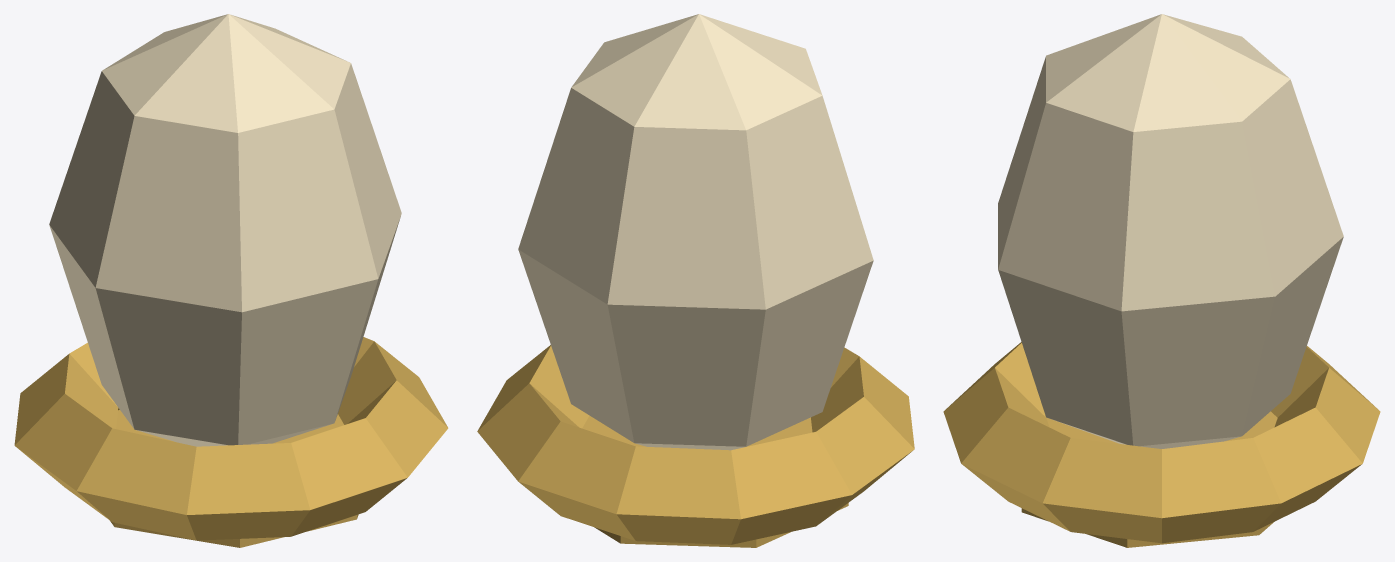
File: egg-lod1.glb
The picture shows the model from 3 angles, left to right: view 1: azimuth 30°, elevation 25°; view 2: azimuth 150°, elevation 25°; view 3: azimuth 270°, elevation 25°; orthographic projection.
Visible parts, largest first — view 1: egg; view 2: egg; view 3: egg.
Part boxes in pixels (<box>): egg: <box>14,14,448,547</box>; egg: <box>477,14,914,547</box>; egg: <box>943,14,1380,547</box>.
Bounding box in the file's own units: 0.3331 × 0.399 × 0.3365.
